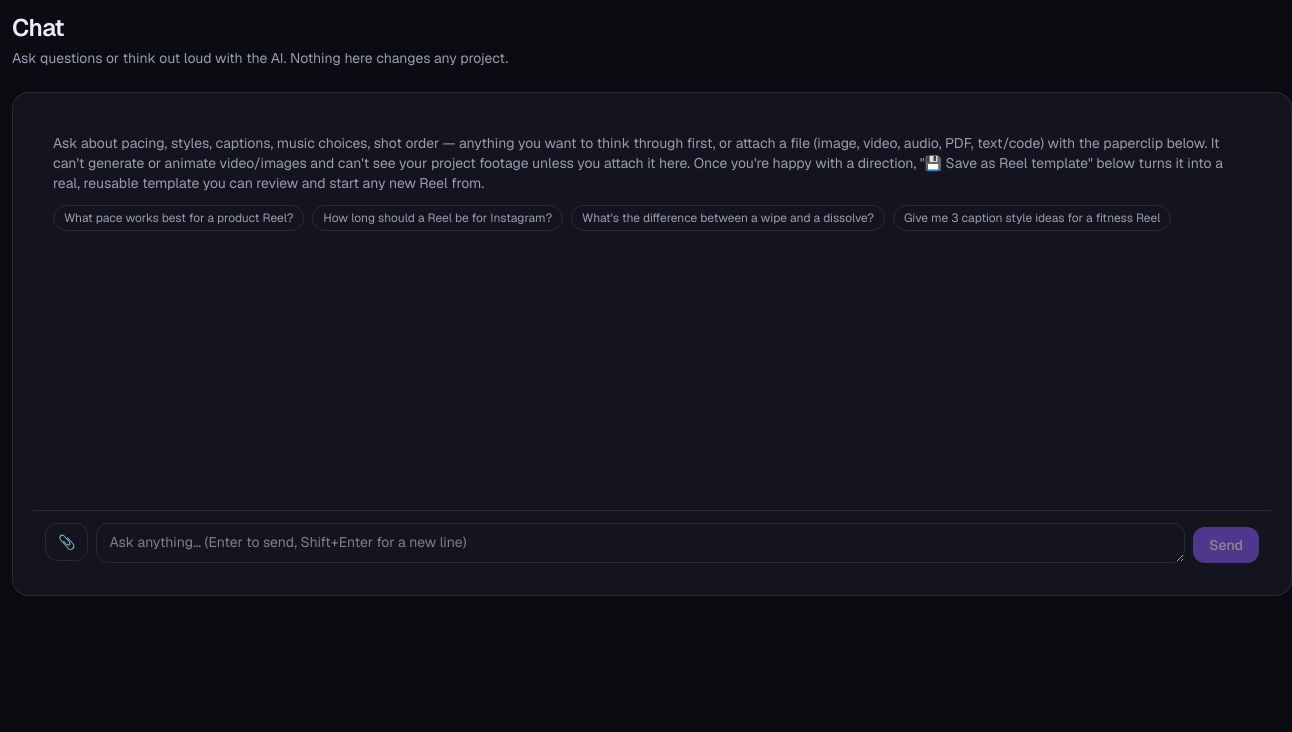
Test: Chat (free-form conversation with the AI, separate from any project) › sends a message and shows the reply
This screenshot has width=1292, height=732.
Type "How long should a Reel be?" into the text box named "Message" at point(641, 543), box 96,523 -> 1185,563
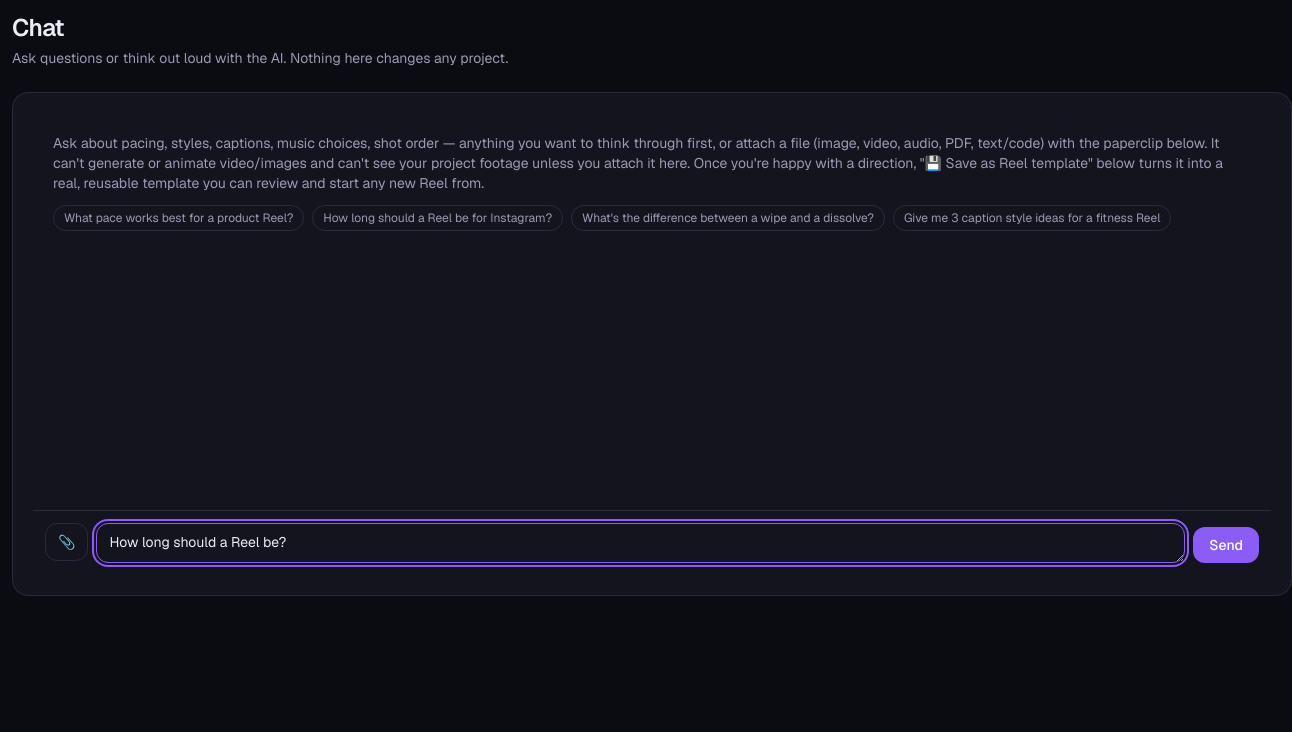
Click the button "Send" at point(1226, 545), box 1193,527 -> 1259,563
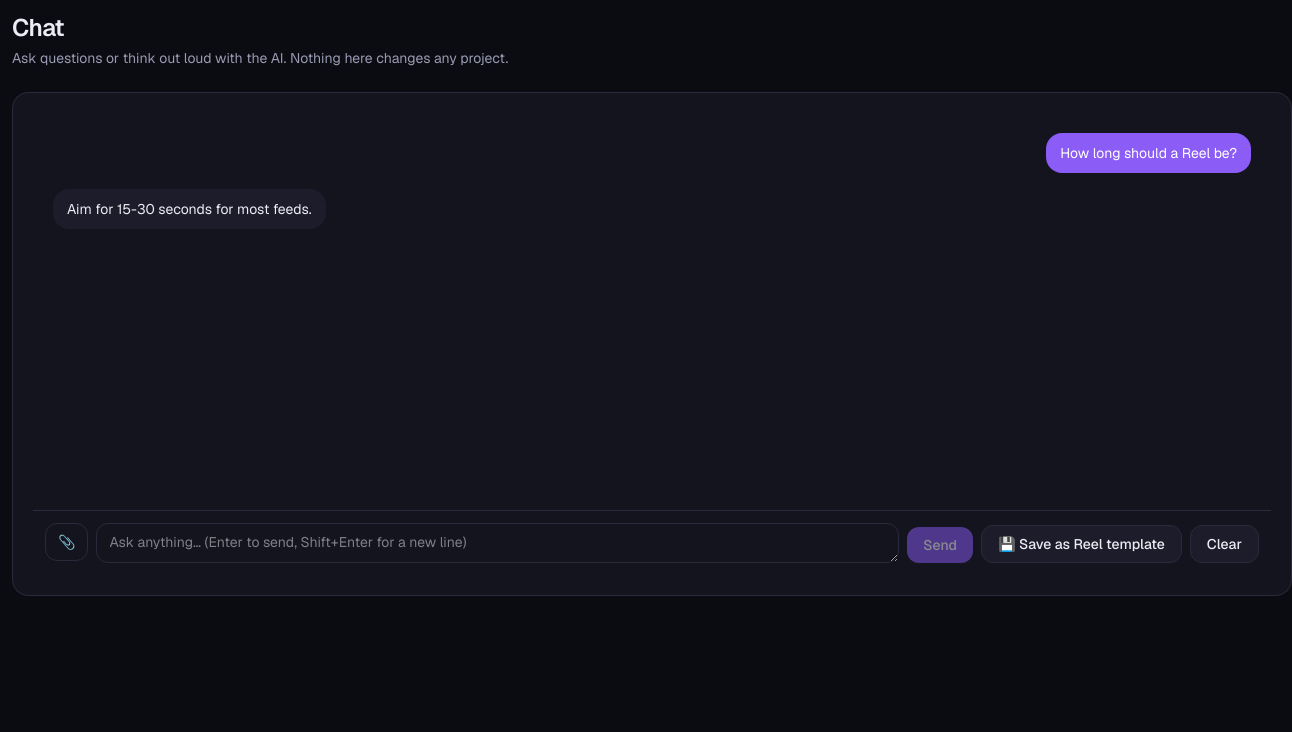
Now the text "Aim for 15-30 seconds for most feeds." is shown, box 67,199 -> 312,219
Now the text "How long should a Reel be?" is shown, box 1060,143 -> 1237,163
Now the text box named "Message" is empty, box 96,523 -> 899,563
